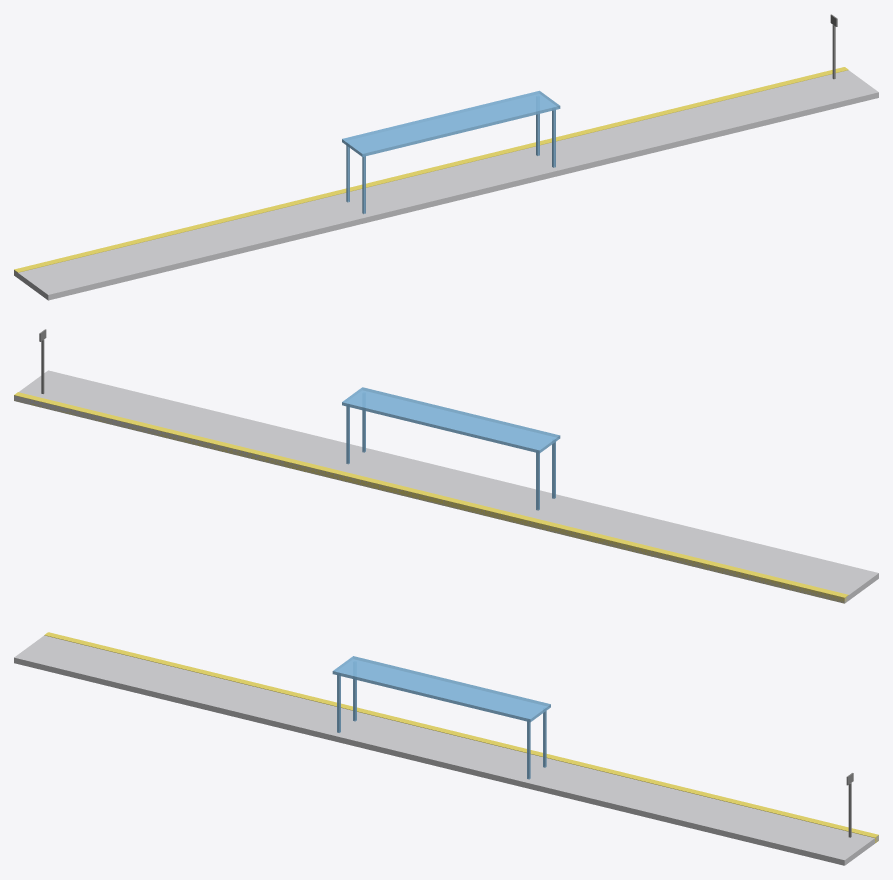
The model's file is tram_stop.glb.
3 views of the same model, one above another, from view 1: azimuth 30°, elevation 25°; view 2: azimuth 150°, elevation 25°; view 3: azimuth 330°, elevation 25° (orthographic).
Parts seen in each view (by area): view 1: platform_body@0, shelter@0, boarding_edge@0; view 2: platform_body@0, boarding_edge@0, shelter@0; view 3: platform_body@0, shelter@0, boarding_edge@0.
Part boxes in pixels (x1,y1,x2,y2): platform_body@0: (14, 70, 878, 300); shelter@0: (342, 90, 560, 214); boarding_edge@0: (14, 67, 848, 275); platform_body@0: (14, 370, 878, 603); boarding_edge@0: (14, 392, 848, 603); shelter@0: (342, 387, 560, 510); platform_body@0: (14, 635, 878, 865); shelter@0: (332, 656, 550, 779); boarding_edge@0: (44, 632, 878, 842).
Bounding box in the file's own units: 42 × 3.27 × 3.
